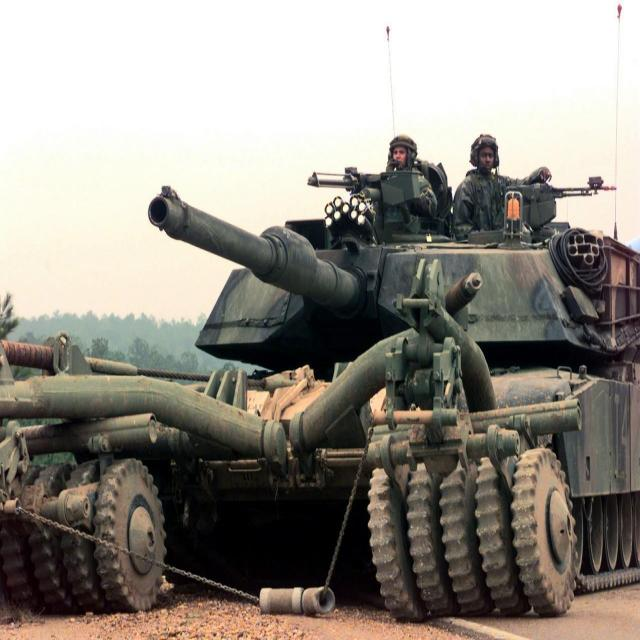Tanks: (81, 36, 571, 621)
